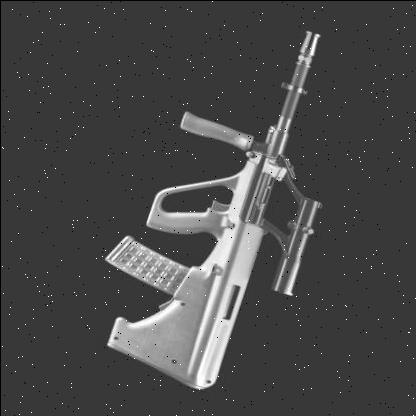rifle: (62, 0, 384, 415)
